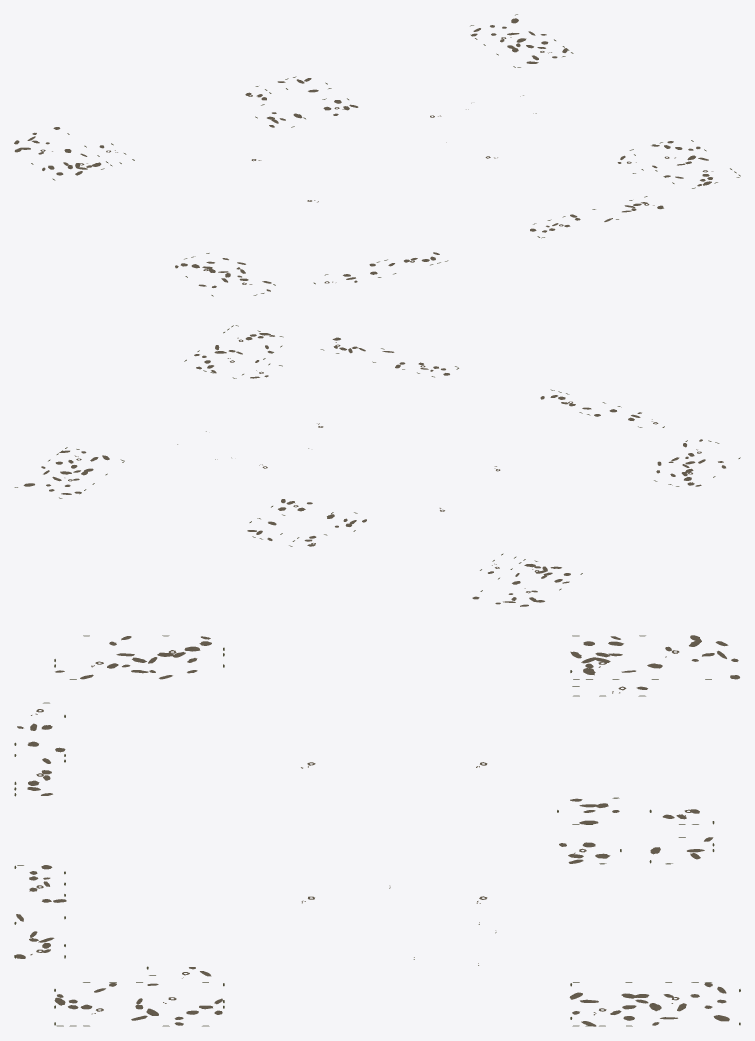
The model's file is heron-reach-ground-detail.glb.
3 views of the same model, one above another, from view 1: azimuth 30°, elevation 25°; view 2: azimuth 150°, elevation 25°; view 3: azimuth 270°, elevation 25° (orthographic). The views are drawn at different scales.
Size of the model in its own units: 140 by 0.014 by 110.
